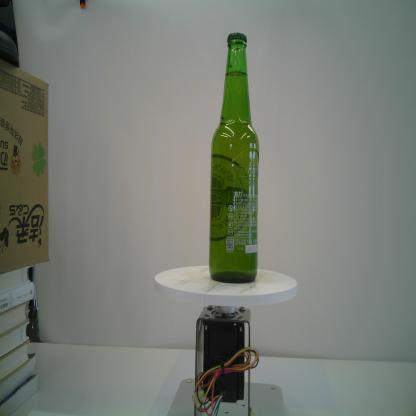Alcohol: (206, 29, 260, 286)
